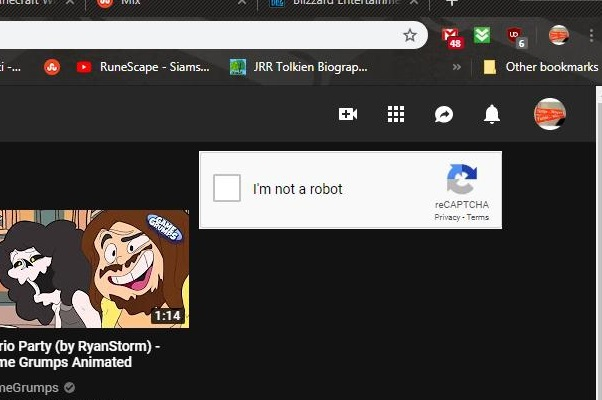captcha: (213, 173, 344, 203)
